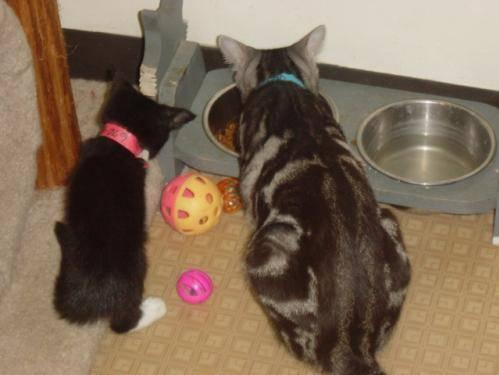cat: (239, 77, 409, 374), (53, 83, 192, 332)
